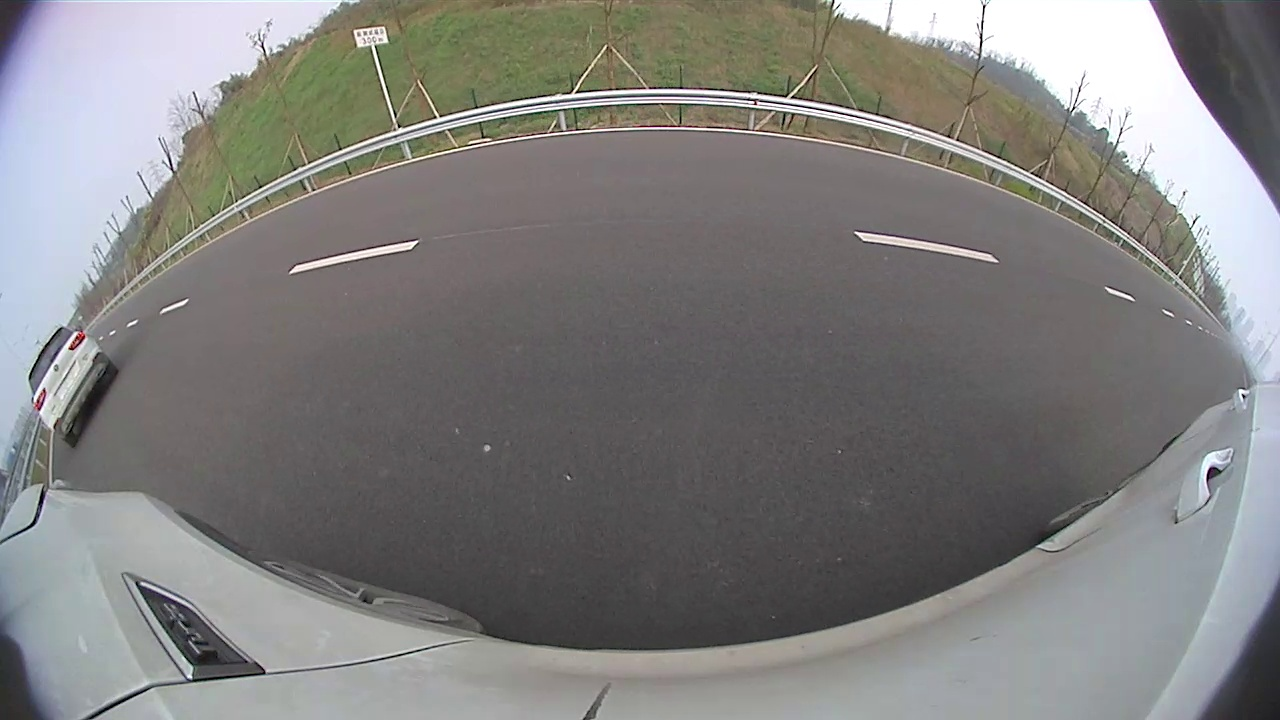car: (992, 176, 1134, 322)
front: (1100, 295, 1123, 324)
rear: (1060, 271, 1093, 309)
